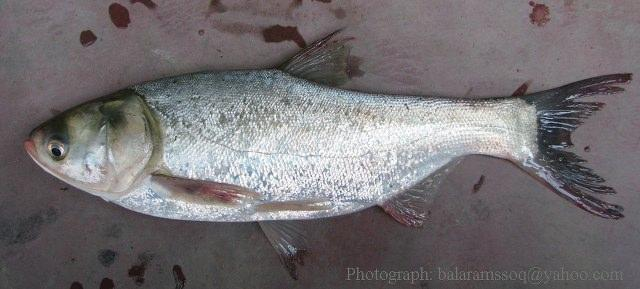Mulut: (11, 110, 63, 186)
Sirip Anal: (384, 156, 484, 238)
Sirip Dada: (146, 164, 256, 214)
Sirip Ekor: (516, 63, 634, 220)
Sirip Perut: (252, 191, 338, 284)
Sirip Punggung: (280, 22, 360, 89)
